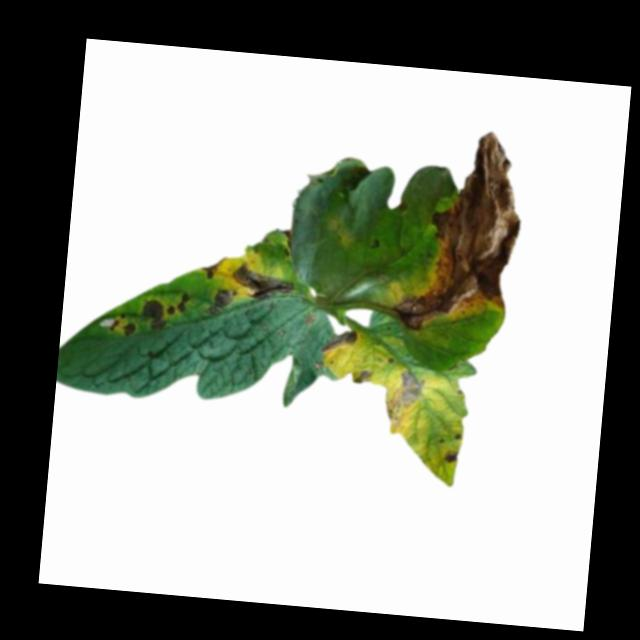Early_blight: (394, 123, 528, 335), (229, 262, 296, 302), (386, 368, 426, 424), (321, 325, 359, 356), (204, 285, 237, 315), (140, 298, 167, 329), (200, 253, 225, 282), (107, 314, 136, 337), (350, 363, 376, 385), (167, 290, 188, 316), (443, 445, 458, 463)
